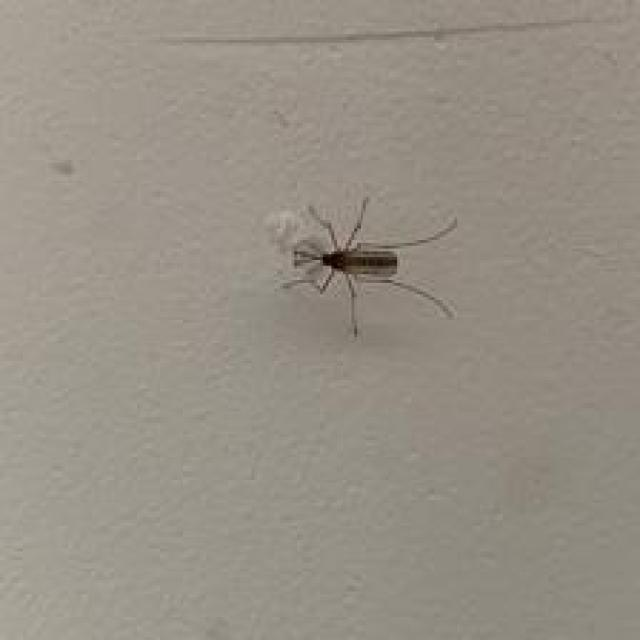Culex: (278, 193, 458, 338)
